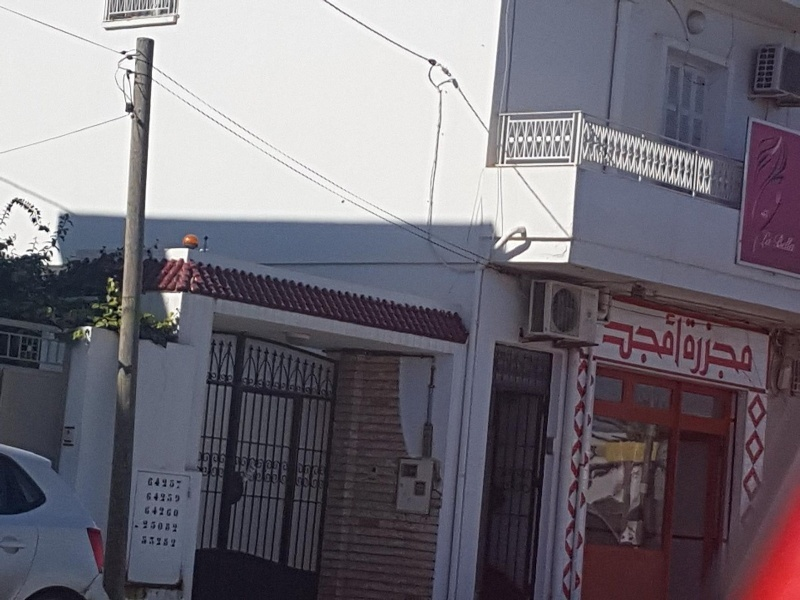text: (737, 317, 753, 384), (689, 317, 704, 384), (705, 317, 720, 384), (721, 317, 736, 384), (609, 309, 624, 370), (625, 309, 640, 370), (641, 309, 656, 370), (657, 309, 672, 370), (673, 309, 684, 370), (753, 228, 768, 263), (769, 228, 784, 263), (785, 228, 799, 263), (161, 476, 176, 491), (145, 519, 160, 533), (161, 519, 176, 533), (145, 535, 160, 549), (161, 535, 176, 549), (685, 317, 688, 384), (147, 476, 160, 491), (161, 492, 176, 505), (145, 505, 160, 518), (161, 505, 176, 518), (146, 492, 160, 505), (177, 476, 184, 491), (177, 492, 182, 505), (177, 505, 181, 518), (177, 519, 180, 533), (142, 535, 144, 549), (143, 519, 144, 533), (177, 535, 178, 549)
